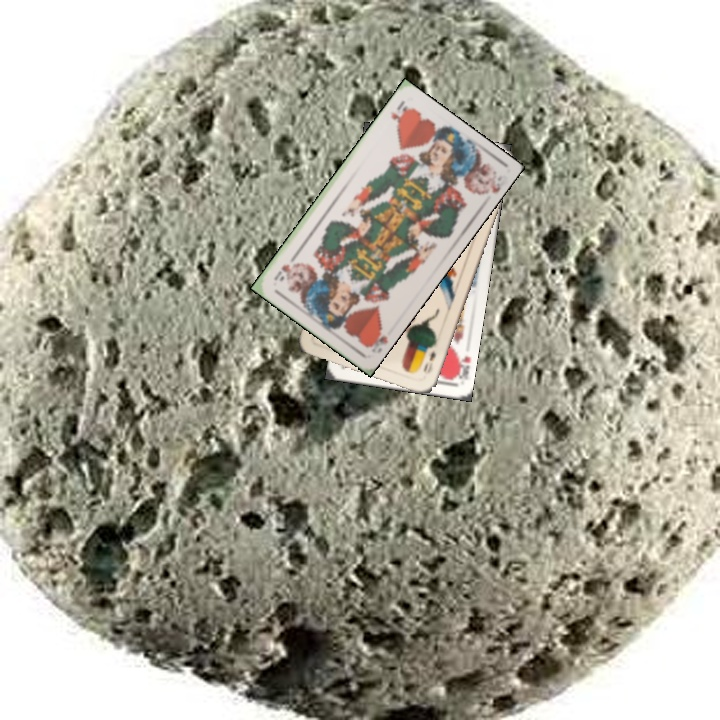EO: (419, 346, 439, 377)
HK: (450, 347, 473, 382)
HO: (362, 320, 390, 355), (386, 96, 410, 125)
